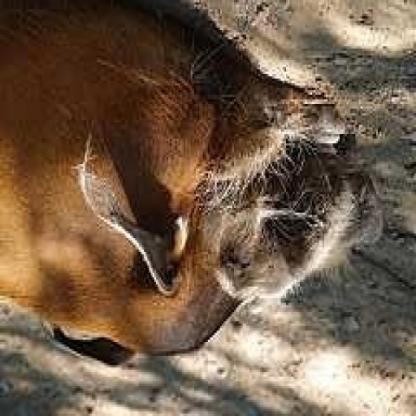boar: (0, 1, 373, 398)
